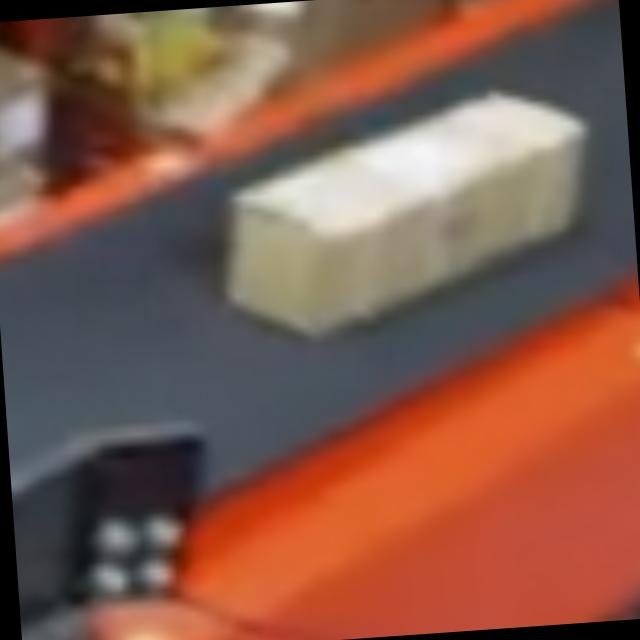box: (217, 90, 592, 332)
